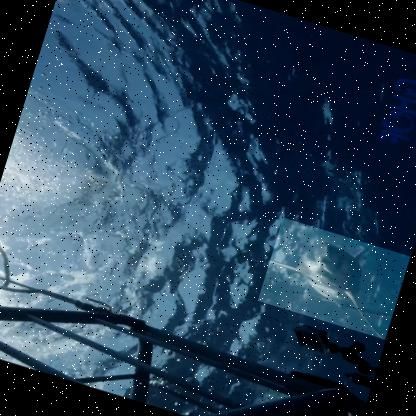mako-shark: (256, 217, 410, 340)
